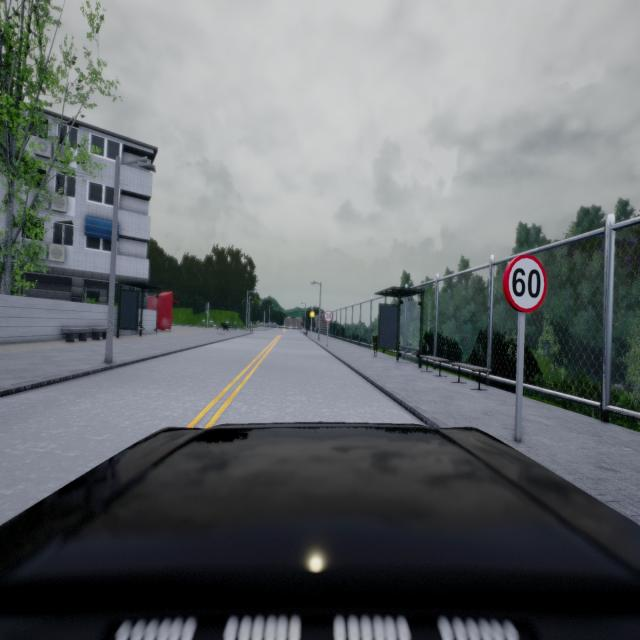Speed Limit -30-: (324, 310, 333, 322)
